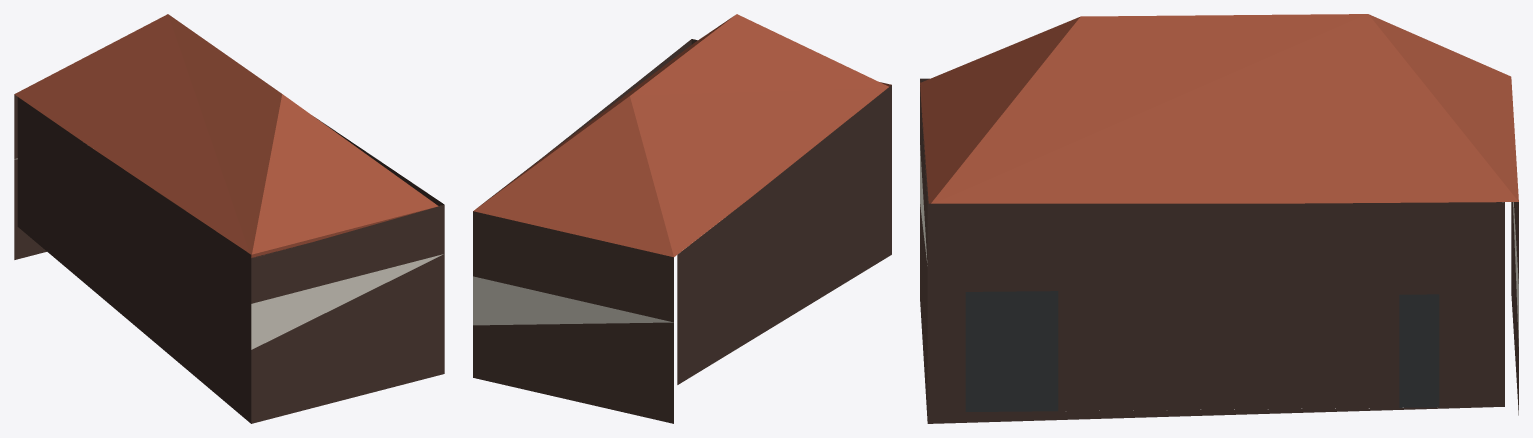
File: westergas-gosschalklaan-12.lod2.glb
3 renders of one model, left to right at view 1: azimuth 30°, elevation 25°; view 2: azimuth 150°, elevation 25°; view 3: azimuth 270°, elevation 25°, orthographic. The views are drawn at different scales.
Parts seen in each view (by area): view 1: lod2; view 2: lod2; view 3: lod2.
Part boxes in pixels (bbox=[...]): lod2: bbox=[14, 14, 444, 423]; lod2: bbox=[473, 14, 891, 423]; lod2: bbox=[920, 14, 1518, 423].
Bounding box in the file's own units: 7.36 × 8.93 × 14.19.
